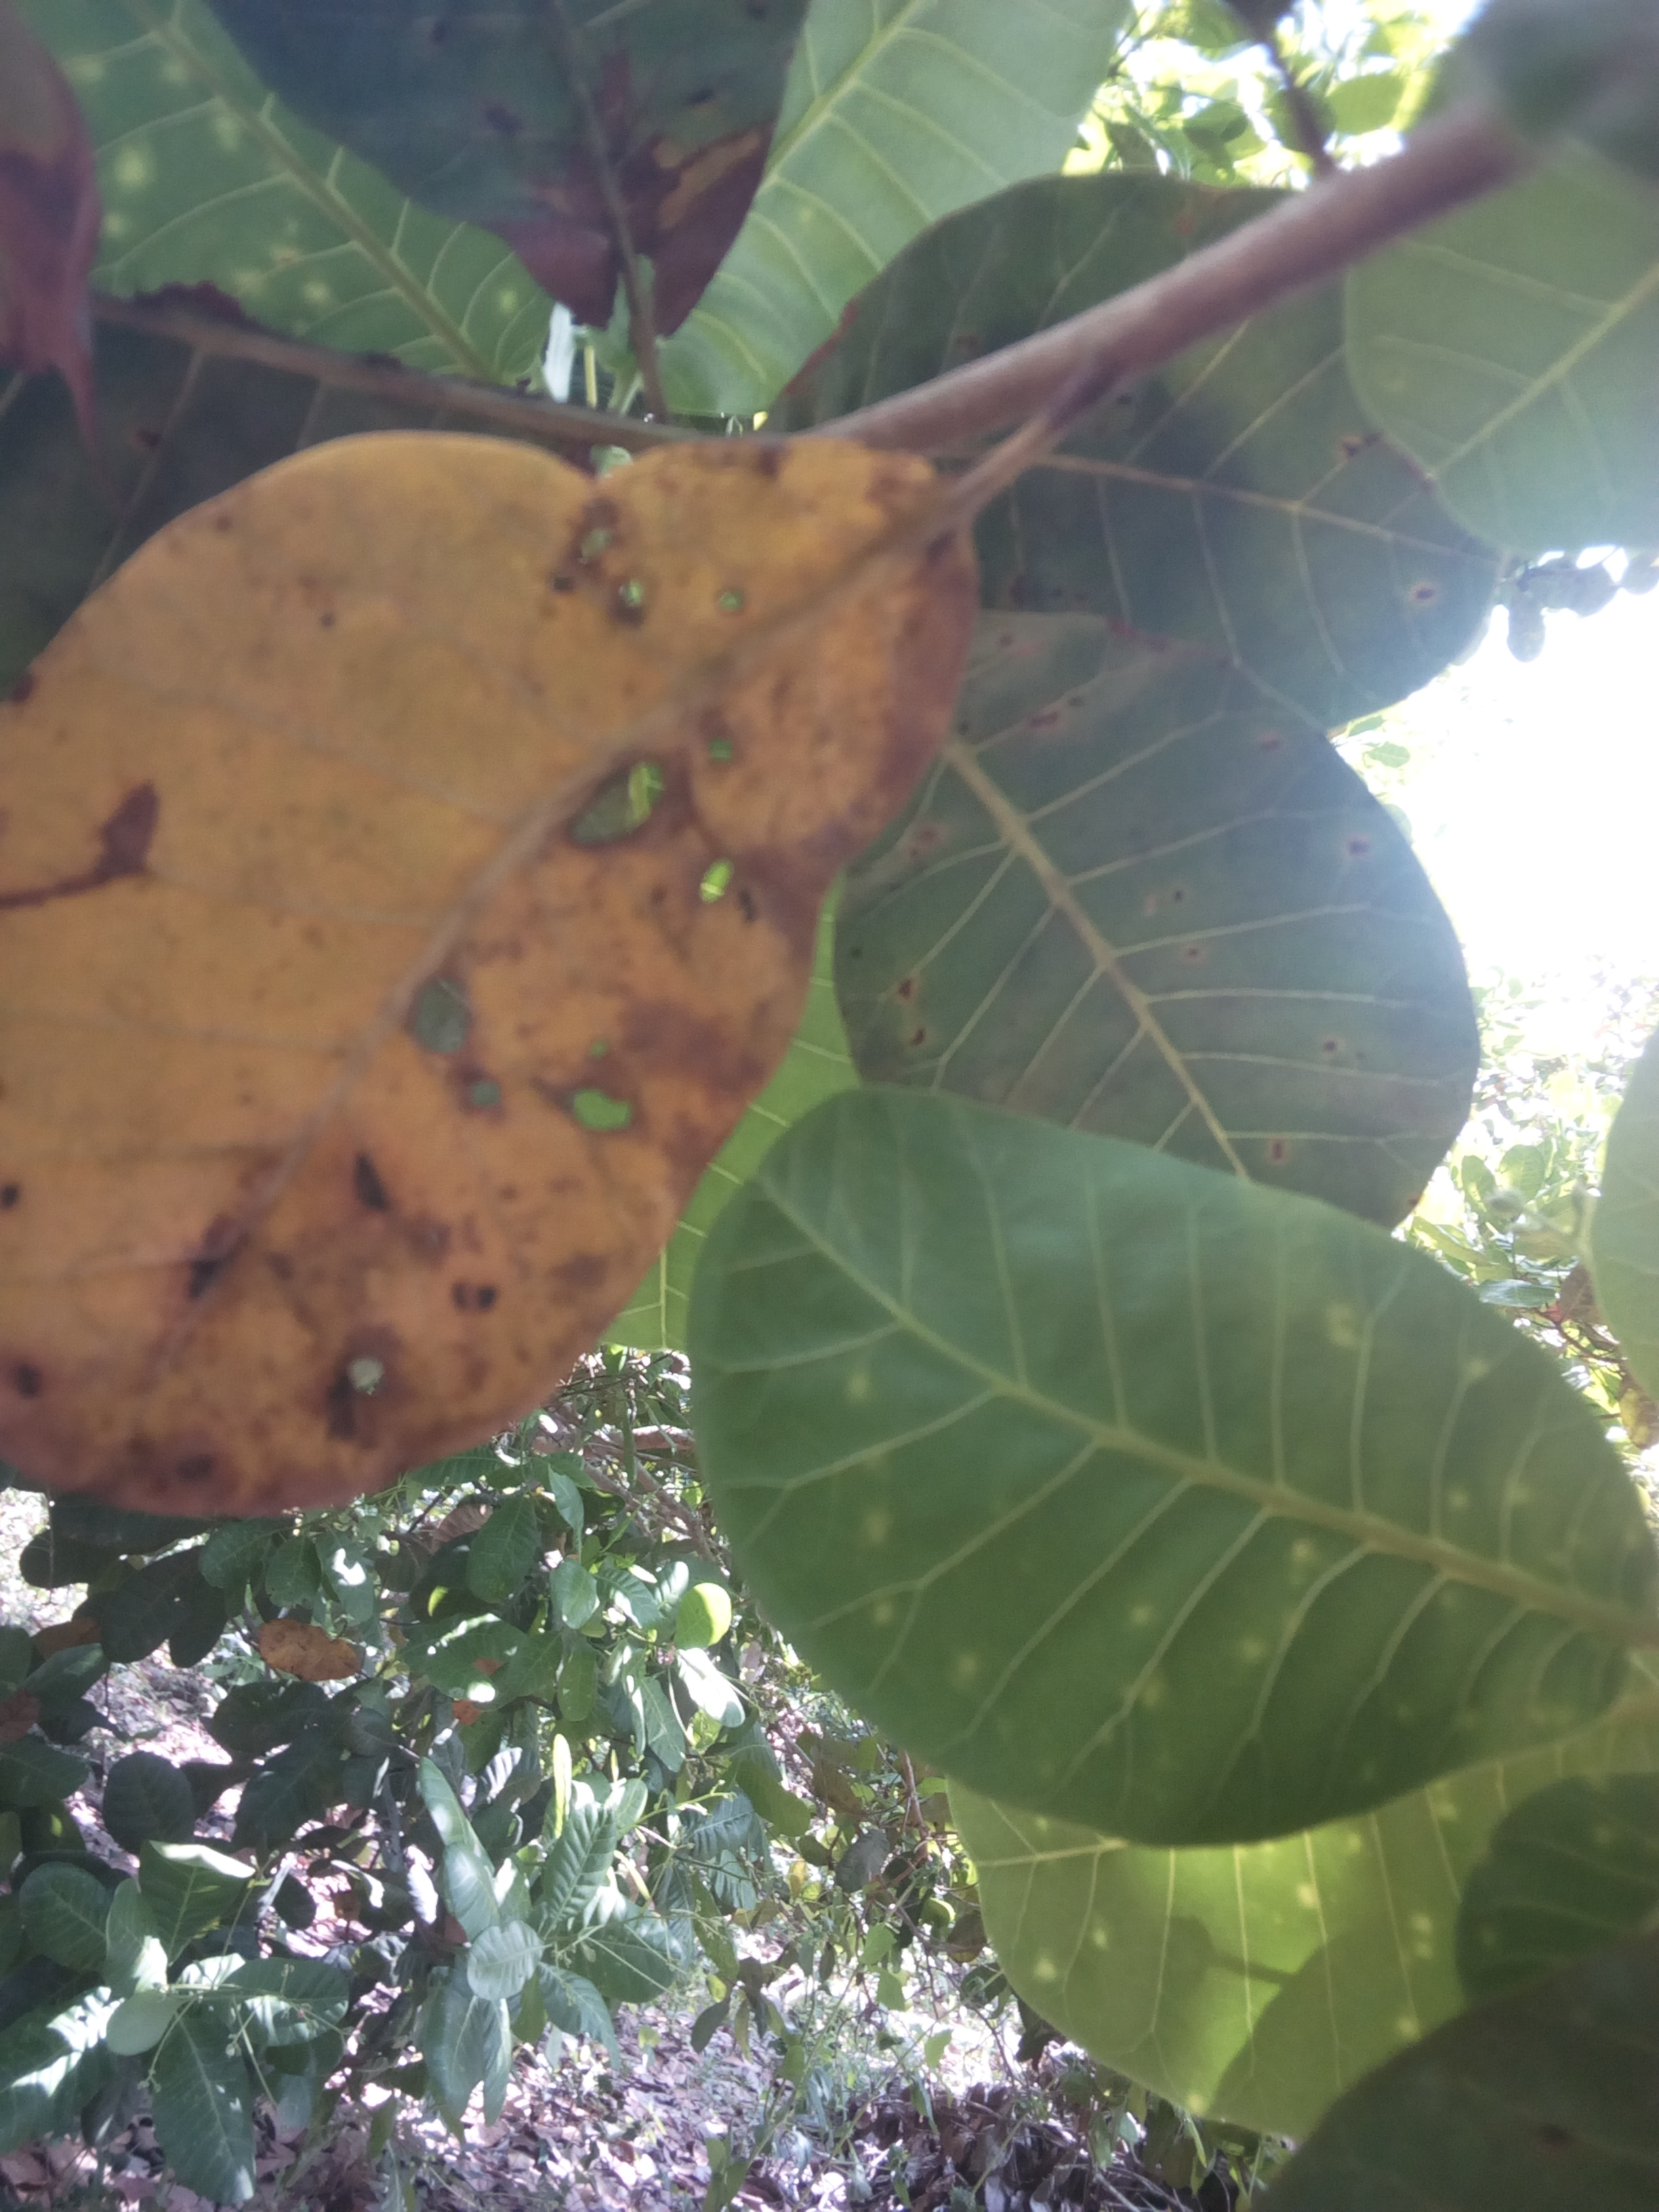Pestalotiose: (972, 625, 1467, 1191), (1084, 381, 1446, 700)
